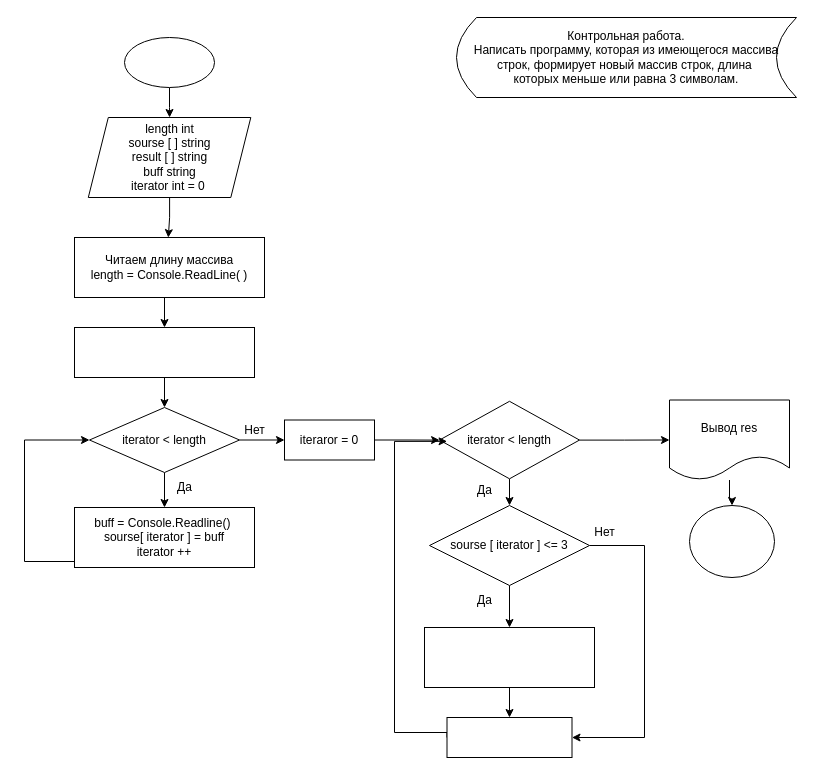
The diagram is 814 pixels wide and 775 high, and some of its shapes have lost their labels. The box of each missing label's shape, as (x1, y1, x2, y2) in pixels:
iterator ++: (446, 716, 572, 758)
length = int.Parse(length): (74, 326, 254, 378)
res.append(sourse [iterator ] ): (424, 626, 594, 688)
Конец: (688, 504, 774, 578)
Старт: (124, 36, 214, 88)
